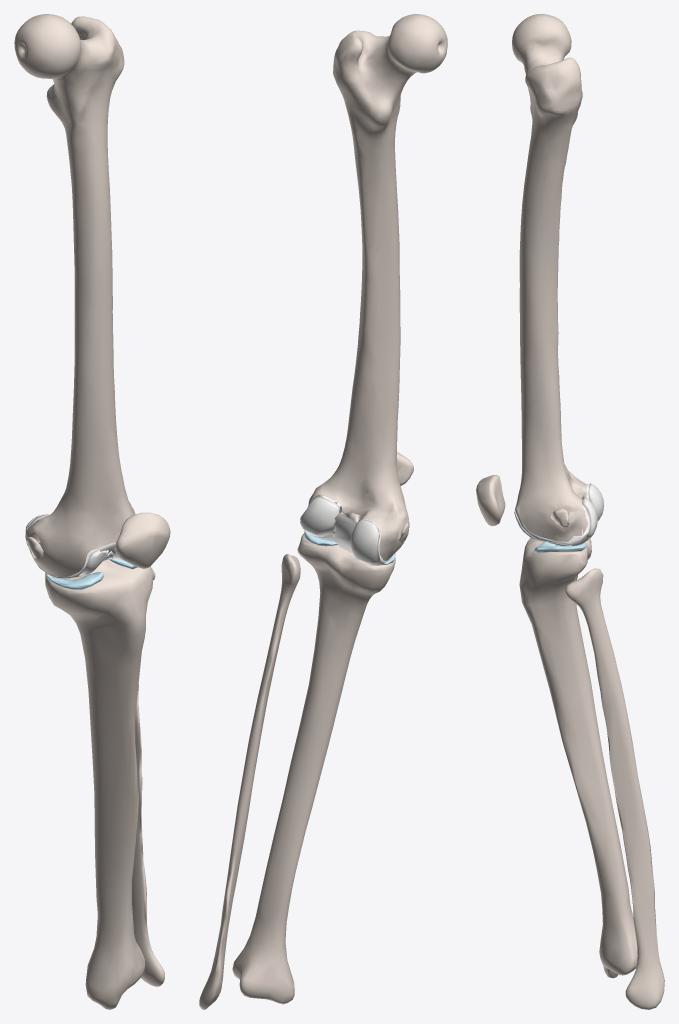
File: vh_m_knee_l-40.glb
The picture shows the model from 3 angles, left to right: view 1: azimuth 30°, elevation 25°; view 2: azimuth 150°, elevation 25°; view 3: azimuth 270°, elevation 25°; orthographic projection. The views are drawn at different scales.
Visible parts, largest first — view 1: VH_M_femur_L, VH_M_tibia_L, VH_M_fibula_L, VH_M_patella_L, VH_M_meniscus_L, VH_M_articular_cartilage_of_knee_L; view 2: VH_M_femur_L, VH_M_tibia_L, VH_M_fibula_L, VH_M_lateral_condyle_of_femur_inf_L, VH_M_medial_condyle_of_left_femur_inf, VH_M_articular_cartilage_of_knee_L; view 3: VH_M_femur_L, VH_M_tibia_L, VH_M_fibula_L, VH_M_patella_L, VH_M_articular_cartilage_of_knee_L.
Boxes of the visible parts, left/top/right/bottom form: VH_M_femur_L: left=14, top=14, right=135, bottom=577; VH_M_tibia_L: left=45, top=559, right=153, bottom=1009; VH_M_fibula_L: left=132, top=568, right=164, bottom=986; VH_M_patella_L: left=115, top=512, right=170, bottom=568; VH_M_meniscus_L: left=47, top=559, right=137, bottom=589; VH_M_articular_cartilage_of_knee_L: left=27, top=514, right=116, bottom=579; VH_M_femur_L: left=308, top=14, right=447, bottom=560; VH_M_tibia_L: left=232, top=533, right=395, bottom=1004; VH_M_fibula_L: left=199, top=554, right=300, bottom=1009; VH_M_lateral_condyle_of_femur_inf_L: left=300, top=496, right=339, bottom=536; VH_M_medial_condyle_of_left_femur_inf: left=350, top=519, right=379, bottom=564; VH_M_articular_cartilage_of_knee_L: left=300, top=496, right=388, bottom=565; VH_M_femur_L: left=512, top=14, right=588, bottom=541; VH_M_tibia_L: left=519, top=538, right=637, bottom=978; VH_M_fibula_L: left=565, top=568, right=664, bottom=1009; VH_M_patella_L: left=476, top=475, right=505, bottom=525; VH_M_articular_cartilage_of_knee_L: left=515, top=483, right=590, bottom=545.
Bounding box in the file's own units: 0.1735 × 0.8875 × 0.1646.
